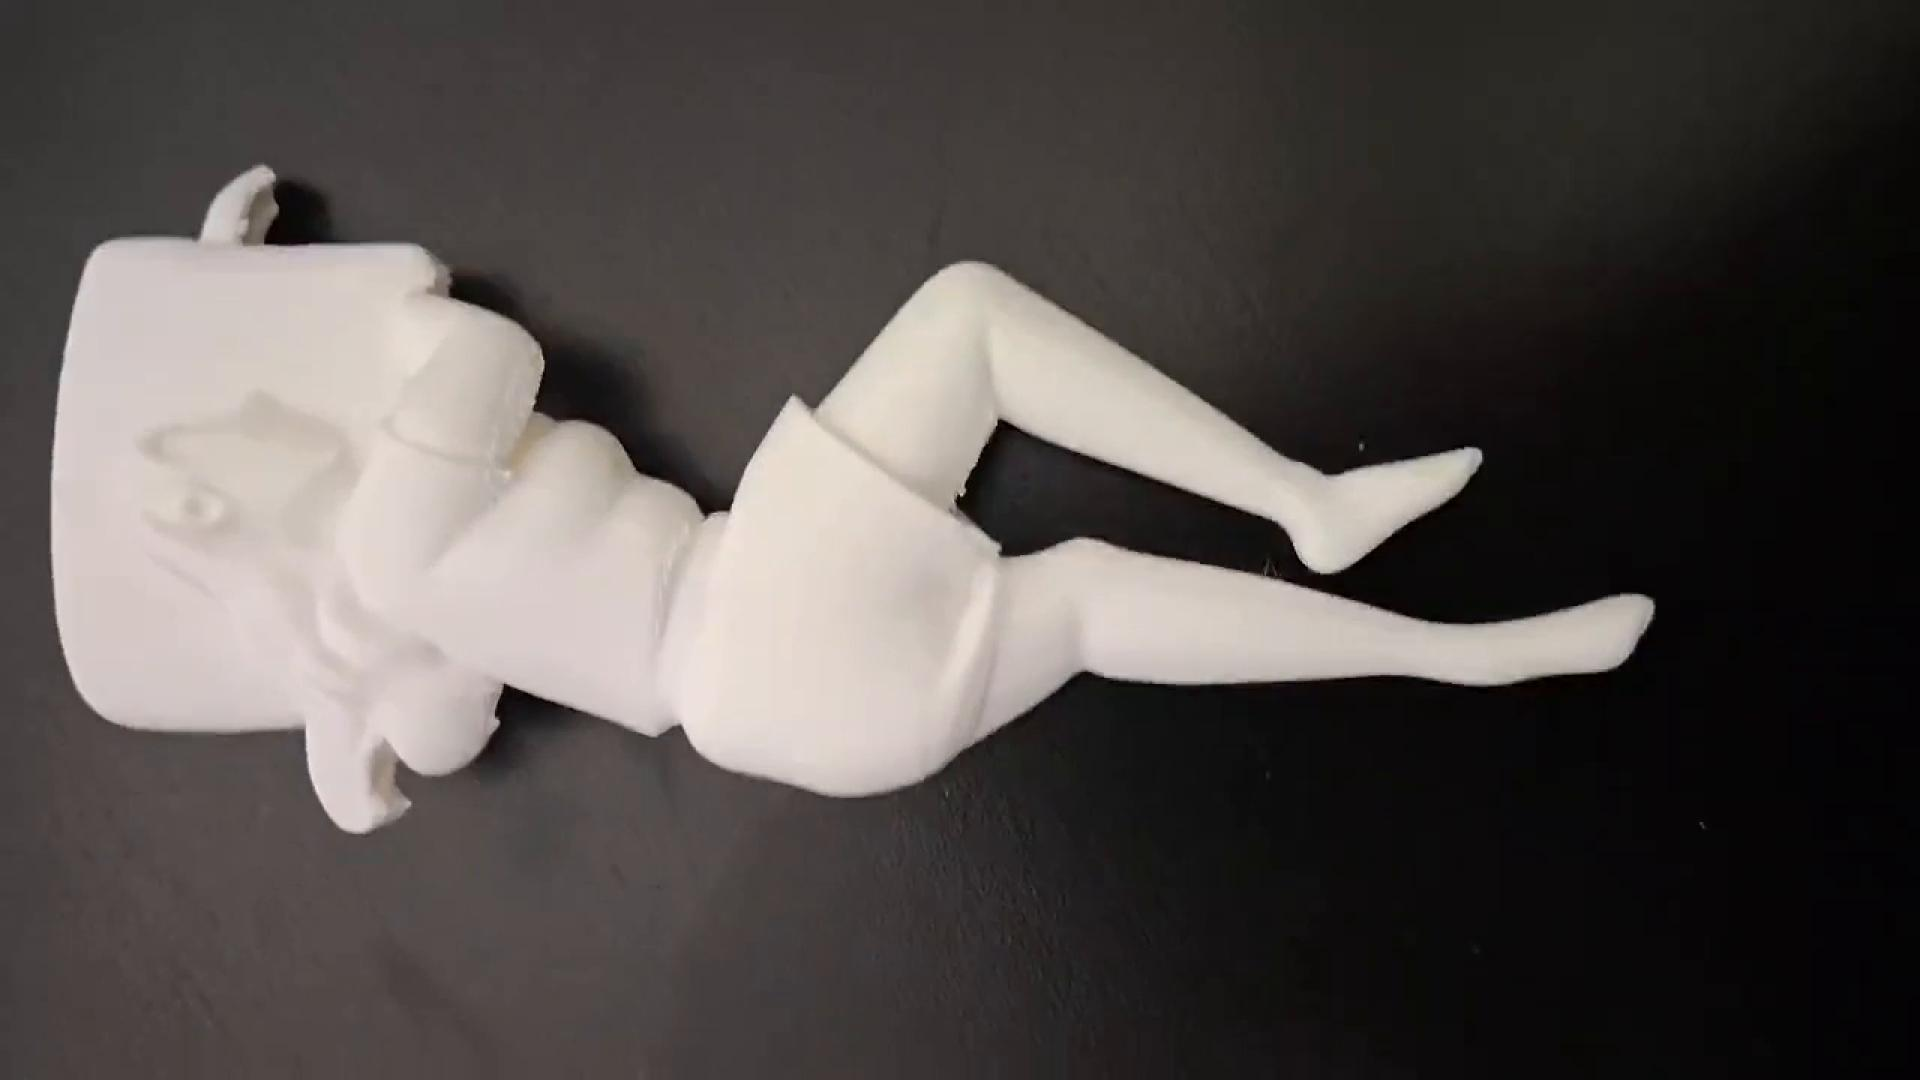Good-style: (49, 164, 1663, 837)
